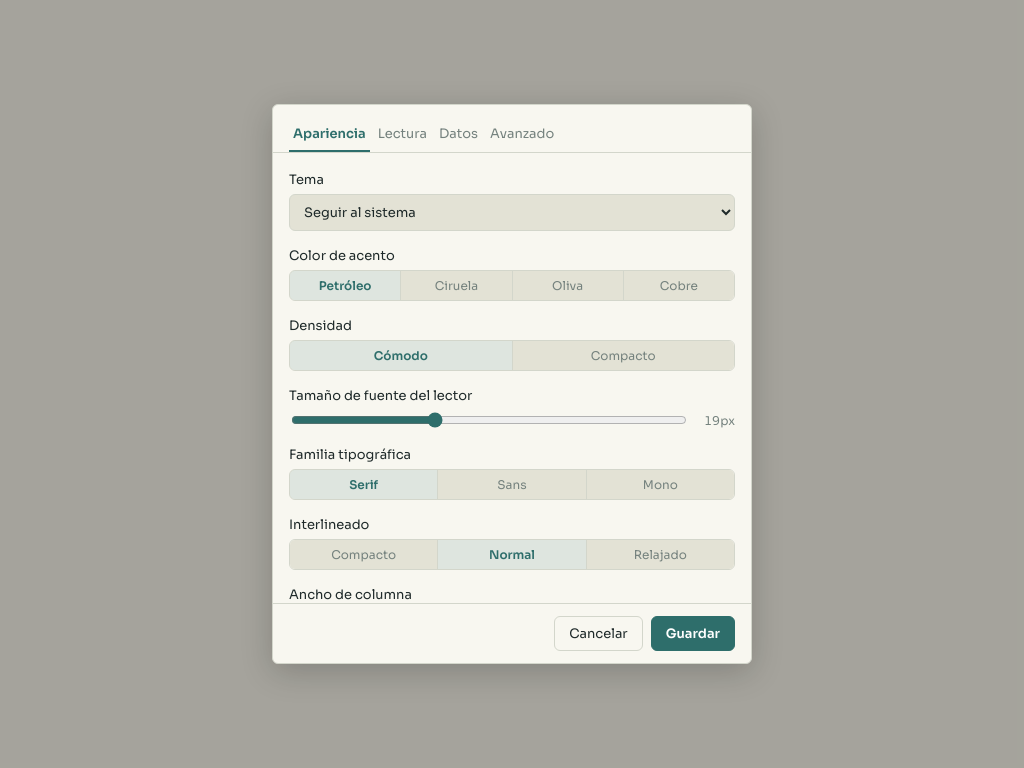
it: Settings (limpieza de contenido extraído) › muestra el campo de purga automática y el botón de purga inmediata en Avanzado
Click the tab "Avanzado": point(522, 134) x1=486 y1=117 x2=558 y2=152
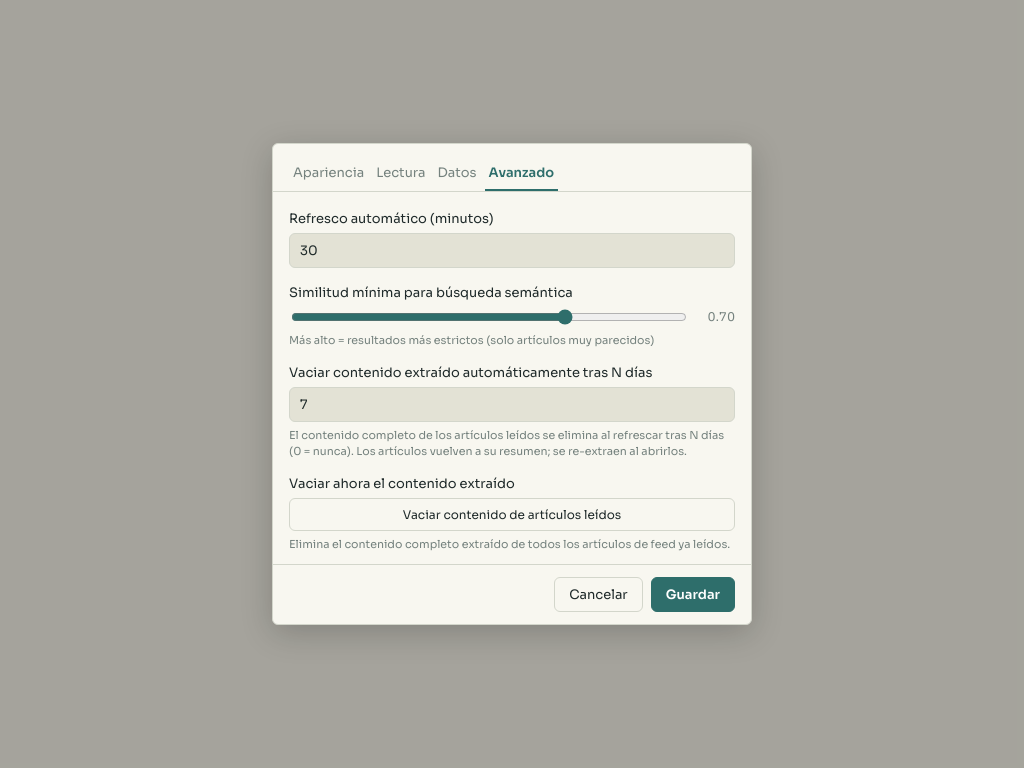
Expected: the text "Vaciar contenido extraído automáticamente tras N días" is shown, x1=289 y1=364 x2=652 y2=381
Expected: the button "Vaciar contenido de artículos leídos" is shown, x1=289 y1=498 x2=735 y2=531
